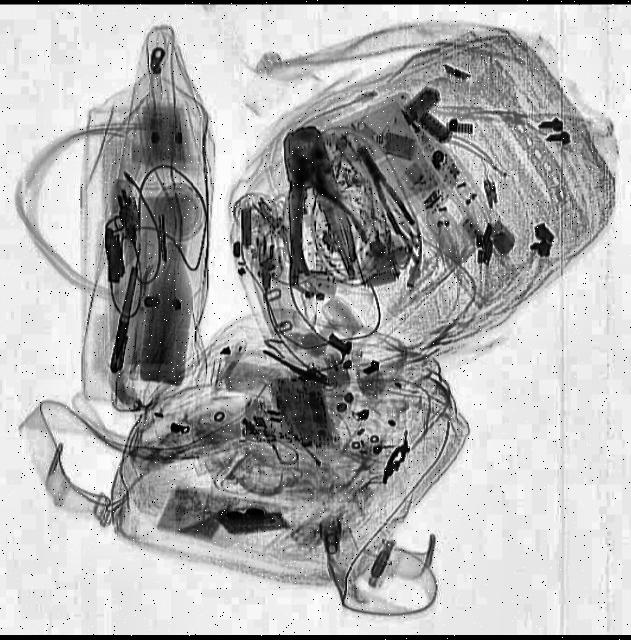Pliers: (268, 122, 362, 288), (270, 147, 374, 276), (350, 138, 418, 235)
